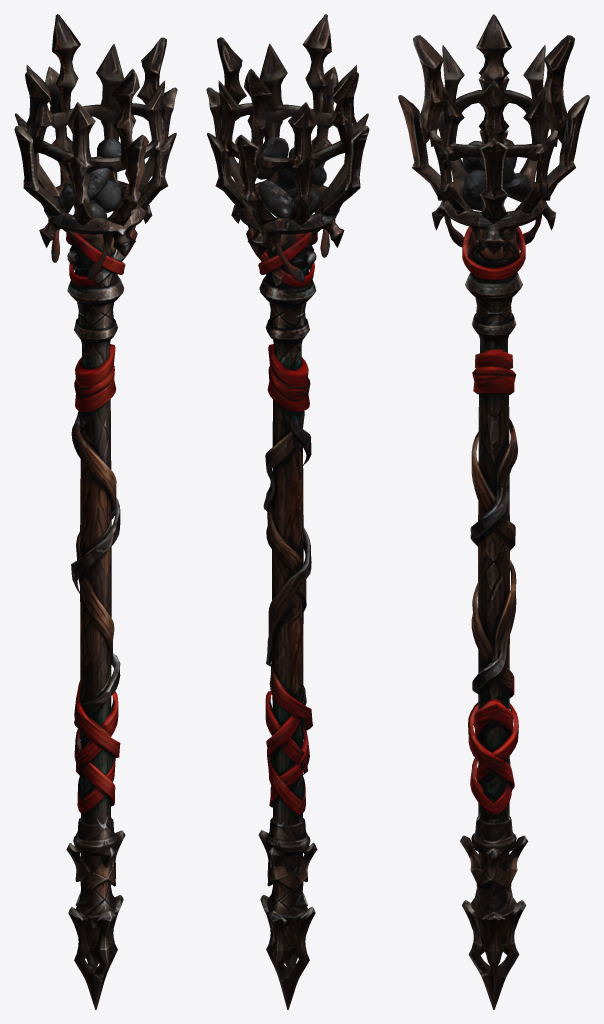
Rendered from PS_pyre_staff_vA.glb.
The picture shows the model from 3 angles, left to right: view 1: azimuth 30°, elevation 25°; view 2: azimuth 150°, elevation 25°; view 3: azimuth 270°, elevation 25°; orthographic projection.
Parts seen in each view (by area): view 1: tripo_20861b86_3775_4b61_a9d5_0f7c73d47318; view 2: tripo_20861b86_3775_4b61_a9d5_0f7c73d47318; view 3: tripo_20861b86_3775_4b61_a9d5_0f7c73d47318.
Boxes of the visible parts, x1,y1,x2,y2 form: tripo_20861b86_3775_4b61_a9d5_0f7c73d47318: (14, 14, 177, 1009); tripo_20861b86_3775_4b61_a9d5_0f7c73d47318: (206, 14, 369, 1009); tripo_20861b86_3775_4b61_a9d5_0f7c73d47318: (398, 14, 589, 1009).
Bounding box in the file's own units: 0.1763 × 0.9995 × 0.1782.
1 material, 1 textured.
